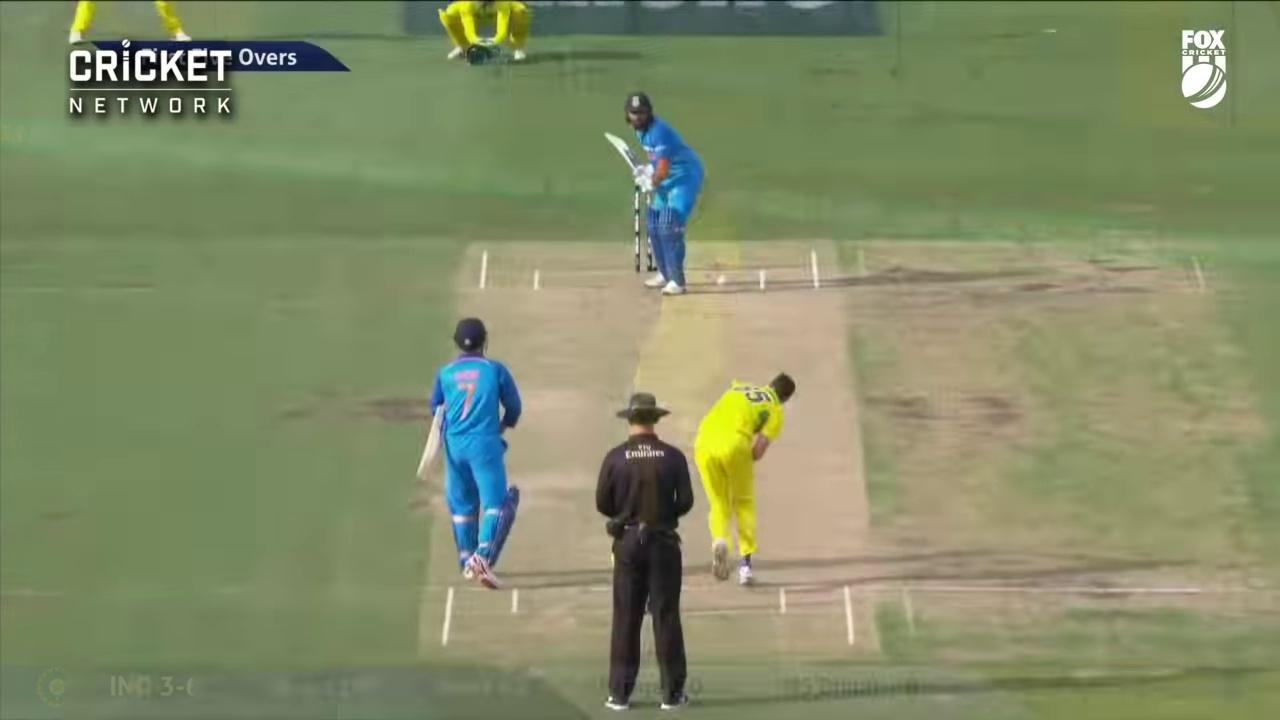batsman: (601, 93, 704, 292)
